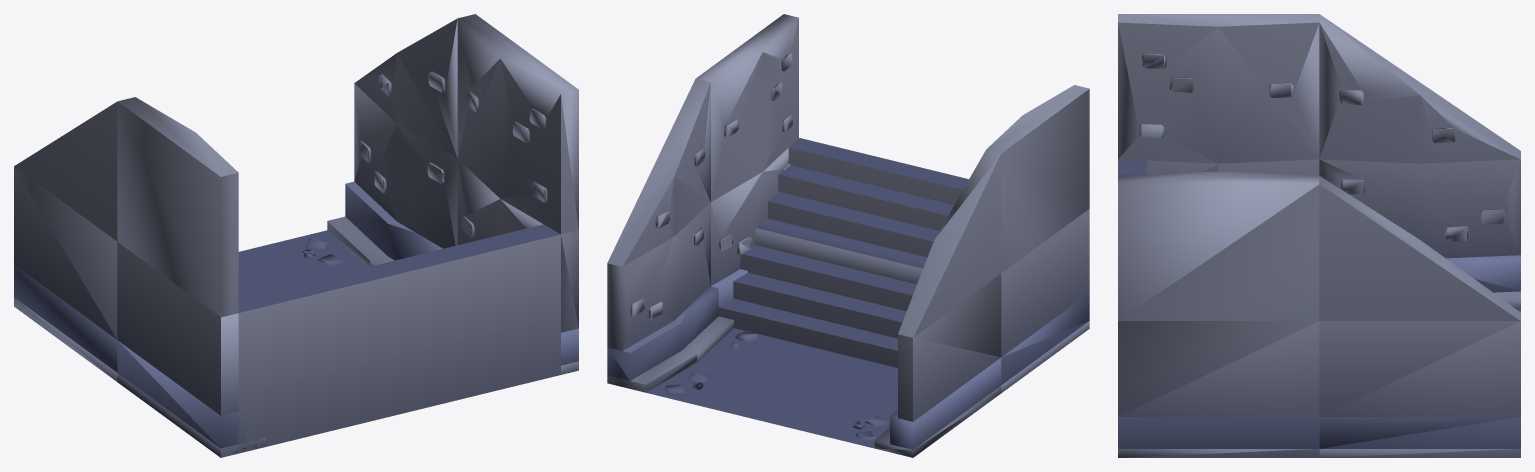
Rendered from stairs-wide_lev2.glb.
3 renders of one model, left to right at view 1: azimuth 30°, elevation 25°; view 2: azimuth 150°, elevation 25°; view 3: azimuth 270°, elevation 25°, orthographic. The views are drawn at different scales.
Visible parts, largest first — view 1: stairs-wide_lev2; view 2: stairs-wide_lev2; view 3: stairs-wide_lev2.
Boxes of the visible parts, x1,y1,x2,y2 form: stairs-wide_lev2: (14, 14, 578, 457); stairs-wide_lev2: (607, 14, 1089, 457); stairs-wide_lev2: (1118, 14, 1520, 457).
Bounding box in the file's own units: 8 × 6 × 8.
1 material, 1 textured.
